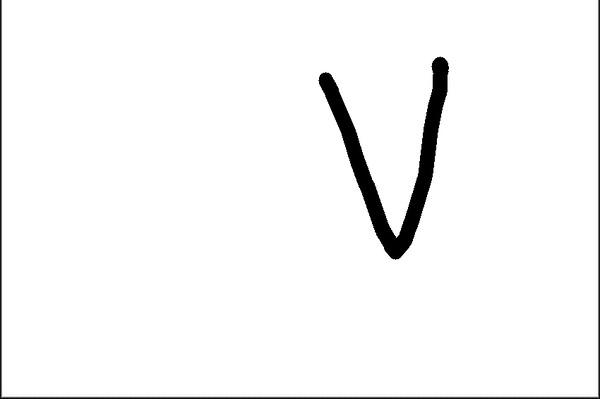V: (312, 51, 466, 265)
